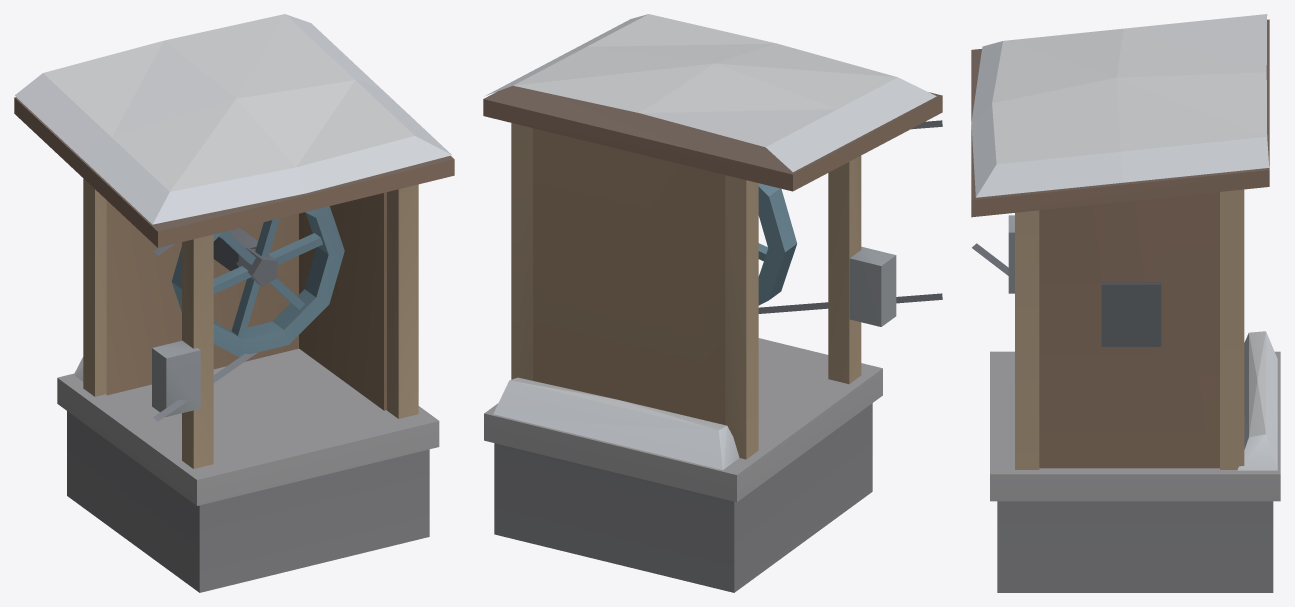
File: tow.lod1.glb
The picture shows the model from 3 angles, left to right: view 1: azimuth 30°, elevation 25°; view 2: azimuth 150°, elevation 25°; view 3: azimuth 270°, elevation 25°; orthographic projection. The views are drawn at different scales.
Size of the model in its own units: 1.93 by 2.67 by 1.66.
